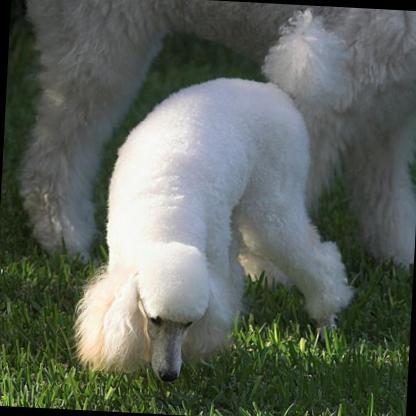miniature_poodle: (67, 66, 366, 393)
